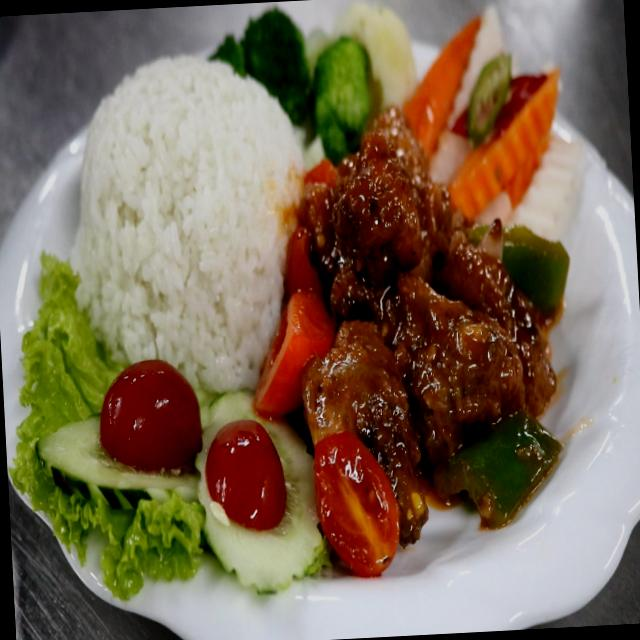ca chua: (315, 432, 398, 576), (100, 361, 203, 471), (203, 420, 287, 531)
ca rot: (449, 68, 559, 219), (404, 17, 481, 158)
com: (72, 55, 305, 391)
dua leo: (205, 391, 322, 588), (39, 416, 199, 497)
rau: (10, 253, 207, 599)
suon xao: (302, 110, 554, 542)
